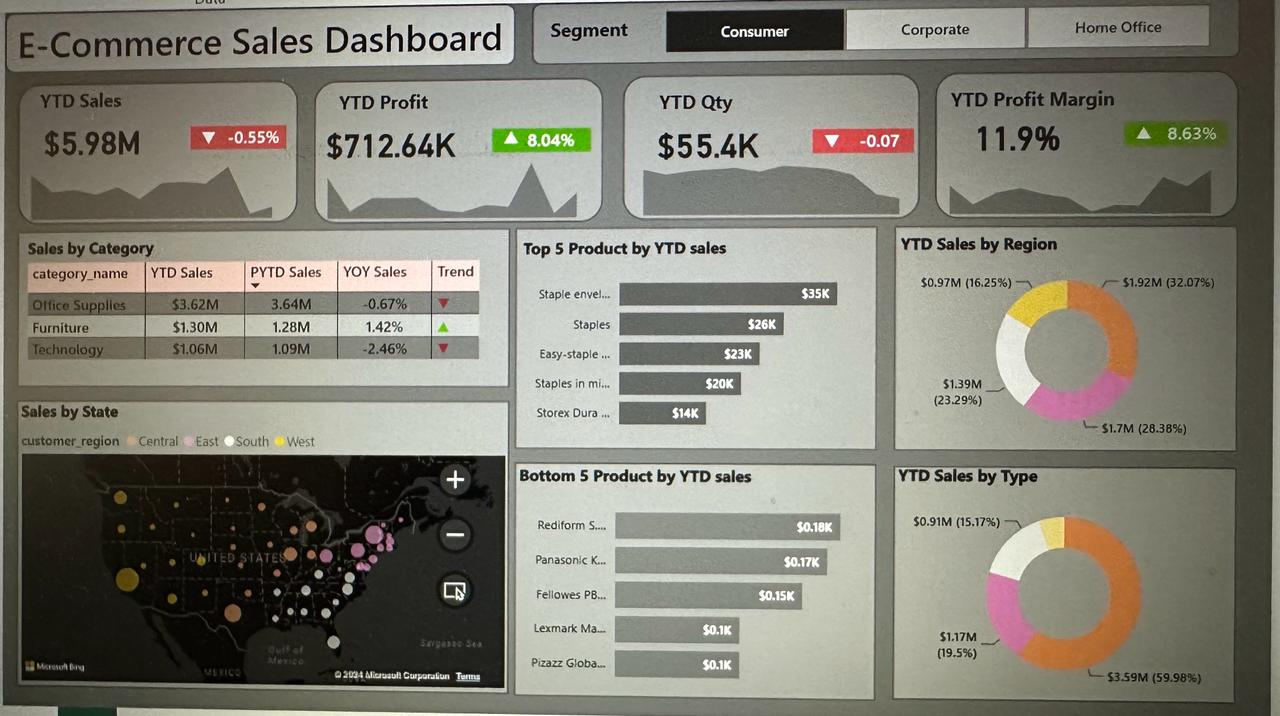

Layout of this report page (visuals, bound fields, positions):
{"tool":"powerbi","page":{"name":"Page 1","canvas":[1280,720],"ordinal":0},"visuals":[{"type":"shape","box":[0,0,532.9,63.6],"z":0},{"type":"shape","box":[14.3,74.8,295.9,146.3],"z":1000},{"type":"shape","box":[911.4,466,335.6,233.8],"z":2000},{"type":"shape","box":[911.4,227.5,335.6,224.3],"z":3000},{"type":"card","fields":{"Values":["ecommerce_data.YTD Sales"]},"box":[14.3,108.2,157.5,50.9],"z":4000},{"type":"areaChart","fields":{"Category":["Calendar.Month"],"Y":["Sum(ecommerce_data.sales_per_order)"]},"box":[14.3,140,283.1,81.1],"z":5000},{"type":"textbox","box":[25.4,74.8,111.3,44.5],"z":6000},{"type":"shape","box":[197.2,120.9,100.2,23.9],"z":7000},{"type":"card","fields":{"Values":["ecommerce_data.YOY Sales"]},"box":[184.5,108.2,157.5,50.9],"z":8000},{"type":"card","fields":{"Values":["ecommerce_data.Sales Icon"]},"box":[197.2,119.3,38.2,28.6],"z":9000},{"type":"shape","box":[326.1,76.3,295.9,146.3],"z":10000},{"type":"card","fields":{"Values":["ecommerce_data.YTD Profit"]},"box":[325.5,113.9,157.5,50.9],"z":11000},{"type":"areaChart","fields":{"Category":["Calendar.Month"],"Y":["Sum(ecommerce_data.profit_per_order)"]},"box":[326.1,141.6,283.1,81.1],"z":12000},{"type":"textbox","box":[342,81.1,111.3,44.5],"z":13000},{"type":"shape","box":[508.4,126.6,100.2,23.9],"z":14000},{"type":"card","fields":{"Values":["ecommerce_data.YOY Profit"]},"box":[489.9,114.5,157.5,50.9],"z":15000},{"type":"card","fields":{"Values":["ecommerce_data.Profit Icon"]},"box":[509,122.5,38.2,28.6],"z":16000},{"type":"shape","box":[641,74.8,295.9,146.3],"z":17000},{"type":"card","fields":{"Values":["ecommerce_data.YTD Qty"]},"box":[646.8,118.2,157.5,50.9],"z":18000},{"type":"areaChart","fields":{"Category":["Calendar.Month"],"Y":["Sum(ecommerce_data.order_quantity)"]},"box":[647.4,140,283.1,81.1],"z":19000},{"type":"textbox","box":[657.9,84.8,111.3,44.5],"z":20000},{"type":"shape","box":[829.7,130.9,100.2,23.9],"z":21000},{"type":"card","fields":{"Values":["ecommerce_data.YOY Qty"]},"box":[817,118.2,157.5,50.9],"z":22000},{"type":"card","fields":{"Values":["ecommerce_data.Qty Icon"]},"box":[829.7,129.3,38.2,28.6],"z":23000},{"type":"shape","box":[951.2,74.8,295.9,146.3],"z":24000},{"type":"card","fields":{"Values":["ecommerce_data.YTD Profit Margin"]},"box":[952.8,112.9,157.5,50.9],"z":25000},{"type":"areaChart","fields":{"Category":["Calendar.Month"],"Y":["ecommerce_data.Profit margin"]},"box":[951.2,140,283.1,81.1],"z":26000},{"type":"textbox","box":[952.8,84.3,187.7,44.5],"z":27000},{"type":"shape","box":[1135.7,125.6,100.2,23.9],"z":28000},{"type":"card","fields":{"Values":["ecommerce_data.YOY Profit Margin"]},"box":[1123,112.9,157.5,50.9],"z":29000},{"type":"card","fields":{"Values":["ecommerce_data.Profit Margin Icon"]},"box":[1135.7,122.5,38.2,28.6],"z":30000},{"type":"shape","box":[532.9,227.5,362.7,224.3],"z":31000},{"type":"shape","box":[14.3,227.5,513.8,162.2],"z":32000},{"type":"pivotTable","title":"Sales by Category","fields":{"Rows":["ecommerce_data.category_name"],"Values":["ecommerce_data.YTD Sales","ecommerce_data.PYTD Sales","ecommerce_data.YOY Sales","ecommerce_data.Sales Icon"]},"box":[20.7,233.8,507.4,149.5],"z":33000},{"type":"shape","box":[14.3,402.4,513.8,297.4],"z":34000},{"type":"map","title":"Sales by State","fields":{"Y":["us_state_long_lat_codes.latitude"],"X":["us_state_long_lat_codes.longitude"],"Size":["ecommerce_data.YTD Sales"],"Series":["ecommerce_data.customer_region"]},"box":[14.3,402.4,513.8,295.9],"z":35000},{"type":"shape","box":[532.9,464.5,362.7,237],"z":36000},{"type":"barChart","title":"Top 5 Product by YTD sales","fields":{"Category":["ecommerce_data.product_name"],"Y":["ecommerce_data.YTD Sales"]},"box":[536,237,356.3,206.8],"z":36001},{"type":"barChart","title":"Bottom 5 Product by YTD sales","fields":{"Category":["ecommerce_data.product_name"],"Y":["ecommerce_data.YTD Sales"]},"box":[532.9,466,356.3,233.8],"z":36002},{"type":"donutChart","title":"YTD Sales by Region","fields":{"Category":["ecommerce_data.customer_region"],"Y":["ecommerce_data.YTD Sales"]},"box":[913,233.8,335.6,213.1],"z":36003},{"type":"donutChart","title":"YTD Sales by Type","fields":{"Y":["ecommerce_data.YTD Sales"],"Category":["ecommerce_data.shipping_type"]},"box":[911.4,464.5,335.6,233.8],"z":36004},{"type":"shape","box":[548.8,0,699.9,63.6],"z":36005},{"type":"slicer","fields":{"Values":["ecommerce_data.customer_segment"]},"box":[658.5,3.2,583.8,55.7],"z":36006},{"type":"textbox","box":[547.2,9.5,119.3,49.3],"z":36007}]}

Visuals, with their boxes in screenshot pixels (x1, y1, x2, y2), scaled from the page's 1280x720 canvas onto the 1280x716 screenshot:
shape: select_region(0, 0, 533, 63)
shape: select_region(14, 74, 310, 220)
shape: select_region(911, 463, 1247, 696)
shape: select_region(911, 226, 1247, 449)
card - ecommerce_data.YTD Sales: select_region(14, 108, 172, 158)
areaChart - Calendar.Month x Sum(ecommerce_data.sales_per_order): select_region(14, 139, 297, 220)
textbox: select_region(25, 74, 137, 119)
shape: select_region(197, 120, 297, 144)
card - ecommerce_data.YOY Sales: select_region(184, 108, 342, 158)
card - ecommerce_data.Sales Icon: select_region(197, 119, 235, 147)
shape: select_region(326, 76, 622, 221)
card - ecommerce_data.YTD Profit: select_region(326, 113, 483, 164)
areaChart - Calendar.Month x Sum(ecommerce_data.profit_per_order): select_region(326, 141, 609, 221)
textbox: select_region(342, 81, 453, 125)
shape: select_region(508, 126, 609, 150)
card - ecommerce_data.YOY Profit: select_region(490, 114, 647, 164)
card - ecommerce_data.Profit Icon: select_region(509, 122, 547, 150)
shape: select_region(641, 74, 937, 220)
card - ecommerce_data.YTD Qty: select_region(647, 118, 804, 168)
areaChart - Calendar.Month x Sum(ecommerce_data.order_quantity): select_region(647, 139, 930, 220)
textbox: select_region(658, 84, 769, 129)
shape: select_region(830, 130, 930, 154)
card - ecommerce_data.YOY Qty: select_region(817, 118, 974, 168)
card - ecommerce_data.Qty Icon: select_region(830, 129, 868, 157)
shape: select_region(951, 74, 1247, 220)
card - ecommerce_data.YTD Profit Margin: select_region(953, 112, 1110, 163)
areaChart - Calendar.Month x ecommerce_data.Profit margin: select_region(951, 139, 1234, 220)
textbox: select_region(953, 84, 1140, 128)
shape: select_region(1136, 125, 1236, 149)
card - ecommerce_data.YOY Profit Margin: select_region(1123, 112, 1279, 163)
card - ecommerce_data.Profit Margin Icon: select_region(1136, 122, 1174, 150)
shape: select_region(533, 226, 896, 449)
shape: select_region(14, 226, 528, 388)
"Sales by Category" pivotTable: select_region(21, 233, 528, 381)
shape: select_region(14, 400, 528, 696)
"Sales by State" map: select_region(14, 400, 528, 694)
shape: select_region(533, 462, 896, 698)
"Top 5 Product by YTD sales" barChart: select_region(536, 236, 892, 441)
"Bottom 5 Product by YTD sales" barChart: select_region(533, 463, 889, 696)
"YTD Sales by Region" donutChart: select_region(913, 233, 1249, 444)
"YTD Sales by Type" donutChart: select_region(911, 462, 1247, 694)
shape: select_region(549, 0, 1249, 63)
slicer - ecommerce_data.customer_segment: select_region(658, 3, 1242, 59)
textbox: select_region(547, 9, 666, 58)
